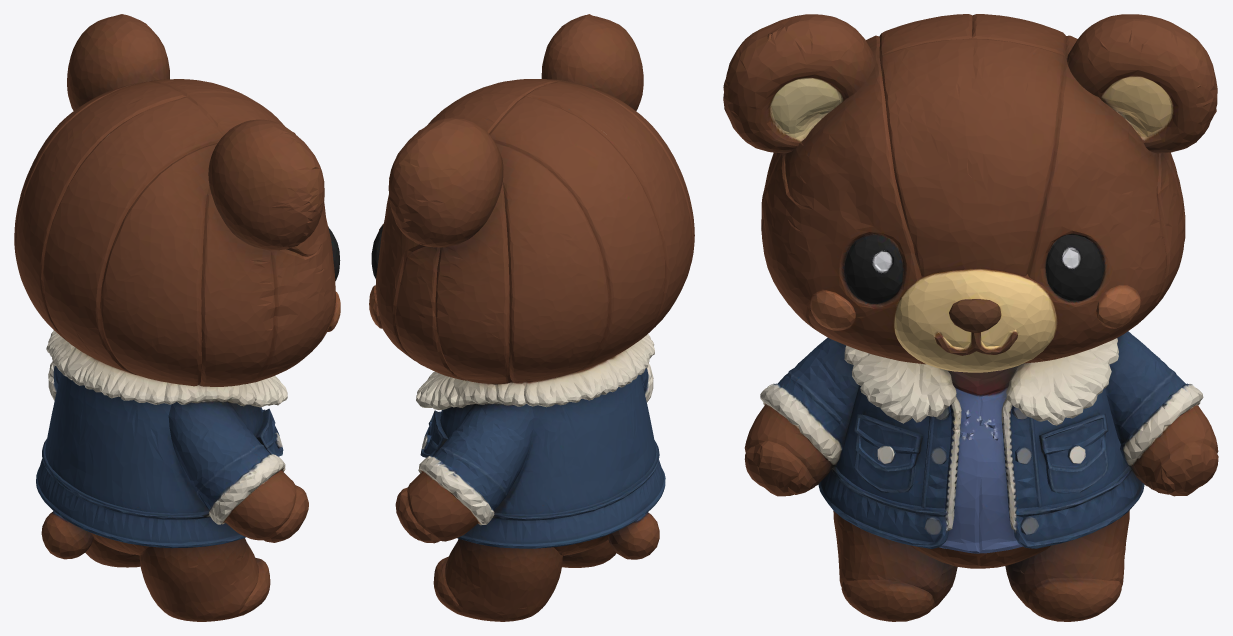
File: toy_16.glb
3 renders of one model, left to right at view 1: azimuth 30°, elevation 25°; view 2: azimuth 150°, elevation 25°; view 3: azimuth 270°, elevation 25°, orthographic. The views are drawn at different scales.
Parts seen in each view (by area): view 1: tripo_node_6d36816a-80e4-413b-9d74-db96500fa35d; view 2: tripo_node_6d36816a-80e4-413b-9d74-db96500fa35d; view 3: tripo_node_6d36816a-80e4-413b-9d74-db96500fa35d.
Boxes of the visible parts, left/top/right/bottom form: tripo_node_6d36816a-80e4-413b-9d74-db96500fa35d: left=14, top=14, right=340, bottom=621; tripo_node_6d36816a-80e4-413b-9d74-db96500fa35d: left=369, top=14, right=694, bottom=621; tripo_node_6d36816a-80e4-413b-9d74-db96500fa35d: left=723, top=14, right=1218, bottom=621.
Size of the model in its own units: 0.5963 by 1 by 0.7617.
Materials: 1 (1 with a texture image).
